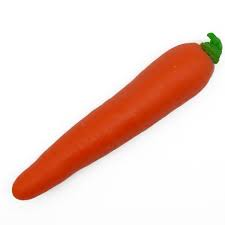carrot: (8, 39, 217, 206)
